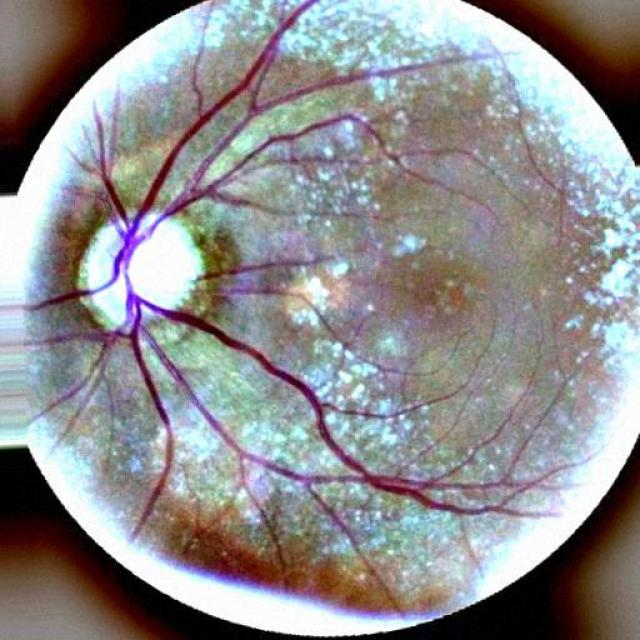Macula: (397, 268, 474, 330)
Nerves: (120, 26, 488, 264), (127, 295, 376, 534), (197, 256, 341, 281)
Optic Disk: (74, 207, 210, 334)
